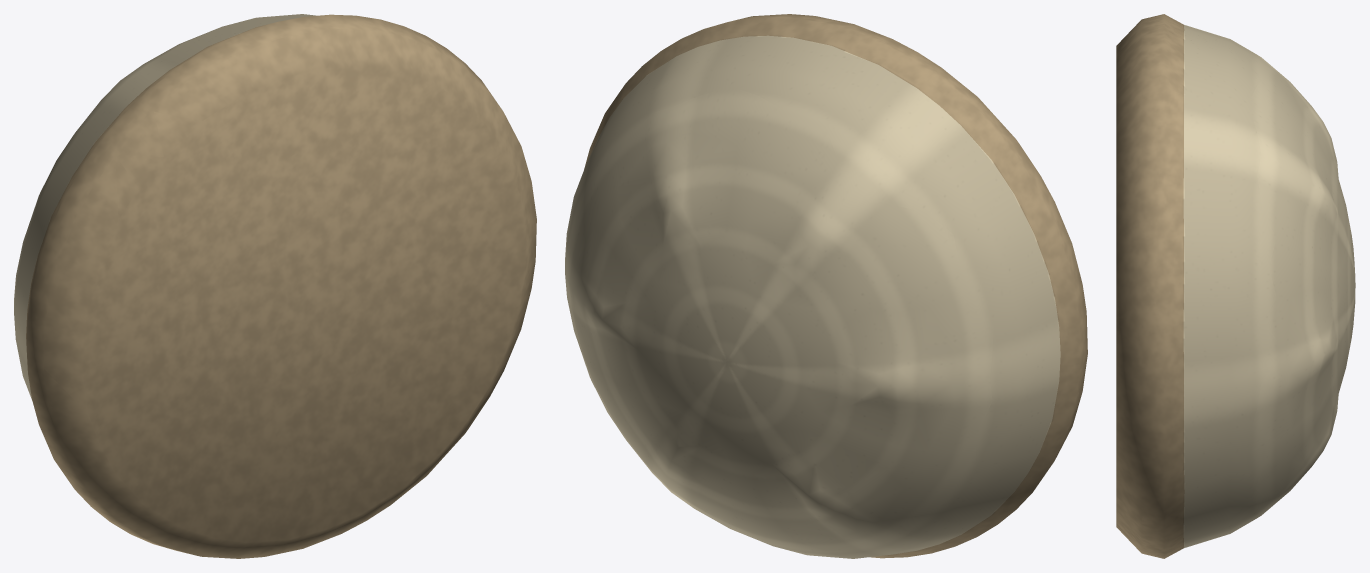
File: part_shell_plate.glb
The picture shows the model from 3 angles, left to right: view 1: azimuth 30°, elevation 25°; view 2: azimuth 150°, elevation 25°; view 3: azimuth 270°, elevation 25°; orthographic projection. The views are drawn at different scales.
Visible parts, largest first — view 1: ShellPlate; view 2: ShellPlate; view 3: ShellPlate.
Part boxes in pixels (bbox=[...]): ShellPlate: bbox=[14, 14, 536, 558]; ShellPlate: bbox=[565, 14, 1087, 558]; ShellPlate: bbox=[1116, 14, 1355, 558].
Size of the model in its own units: 0.3876 by 0.3876 by 0.17.
Materials: 2 (2 with a texture image).
